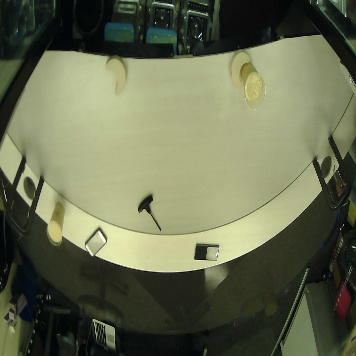full_cup: (240, 62, 267, 108), (46, 201, 65, 246)
puck: (105, 55, 127, 96), (229, 48, 250, 86)
